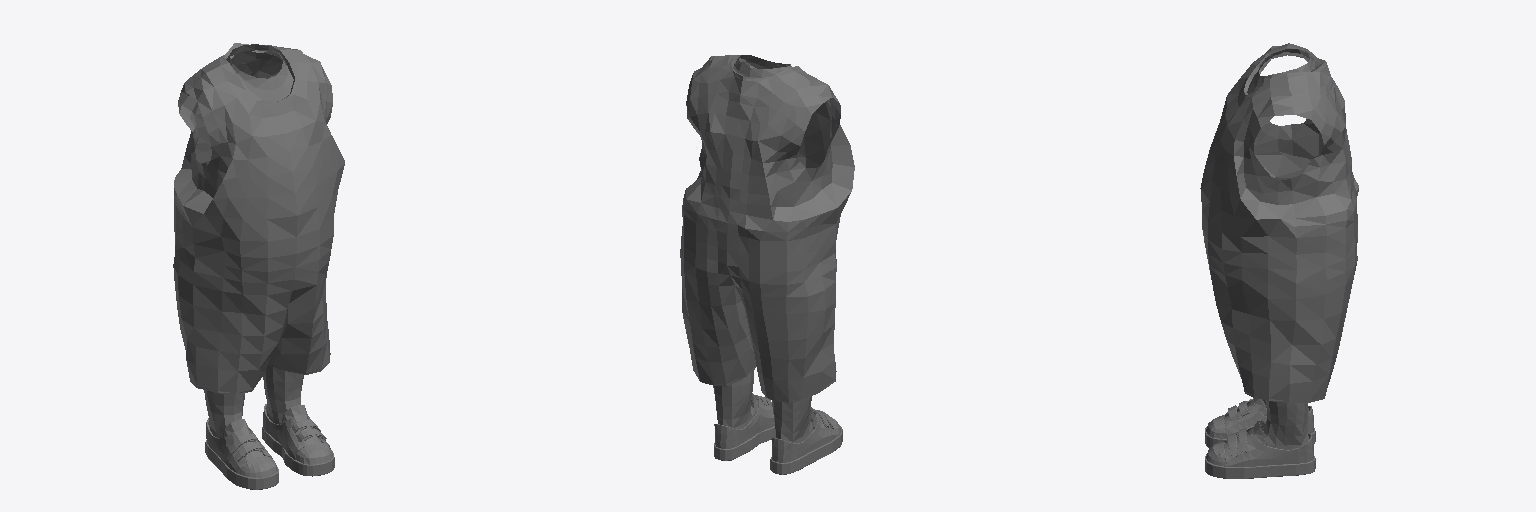
Rendered from TorsoPiernas.obj.
The picture shows the model from 3 angles: view 1: azimuth 30°, elevation 25°; view 2: azimuth 150°, elevation 25°; view 3: azimuth 270°, elevation 25°; orthographic projection.
Visible parts, largest first — view 1: girl; view 2: girl; view 3: girl.
Part boxes in pixels (bbox=[...]): girl: bbox=[173, 43, 344, 489]; girl: bbox=[680, 55, 854, 474]; girl: bbox=[1200, 43, 1358, 478].
Size of the model in its own units: 29.01 by 77.18 by 27.99.